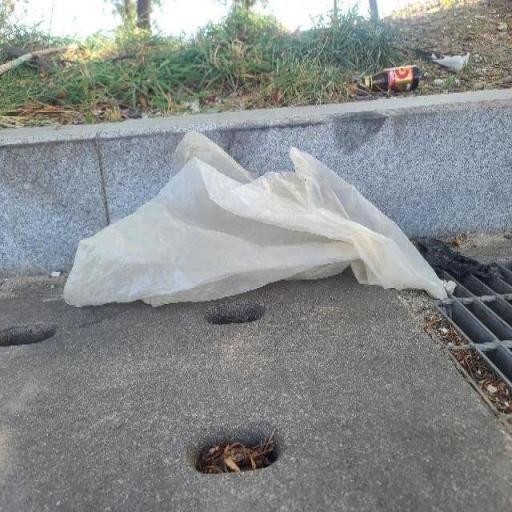plastic-bag: (60, 128, 454, 310)
